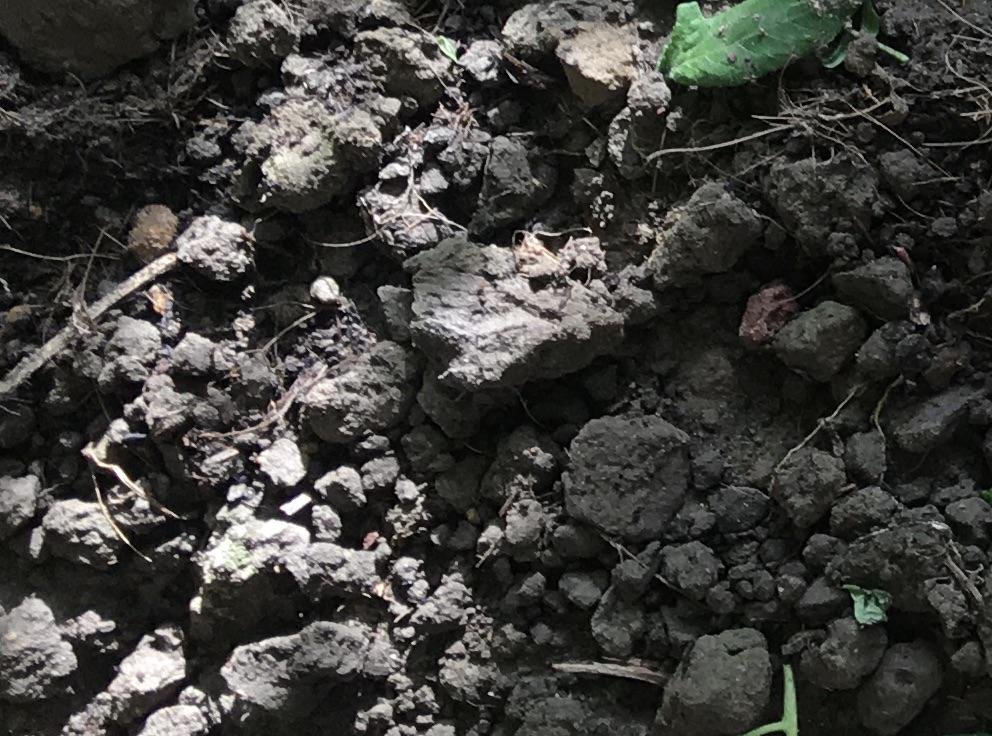block: (400, 239, 629, 430), (552, 415, 695, 547), (219, 619, 389, 723), (652, 627, 772, 735)
